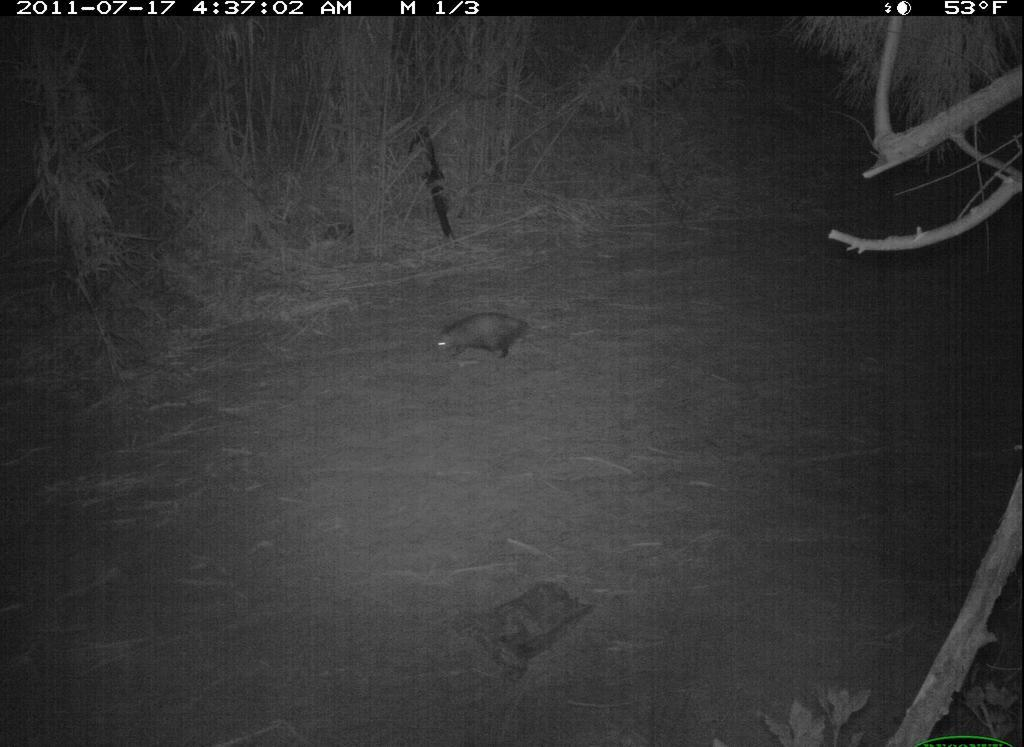opossum: (434, 312, 532, 364)
